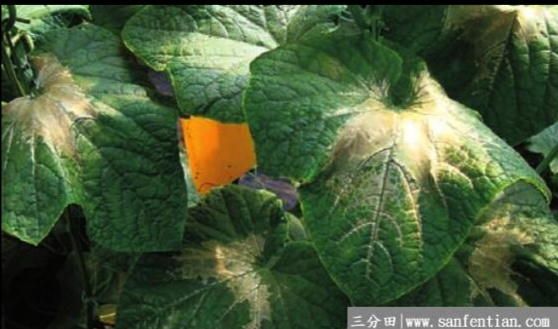cucumber_plant: (254, 26, 524, 299), (6, 11, 192, 250)
